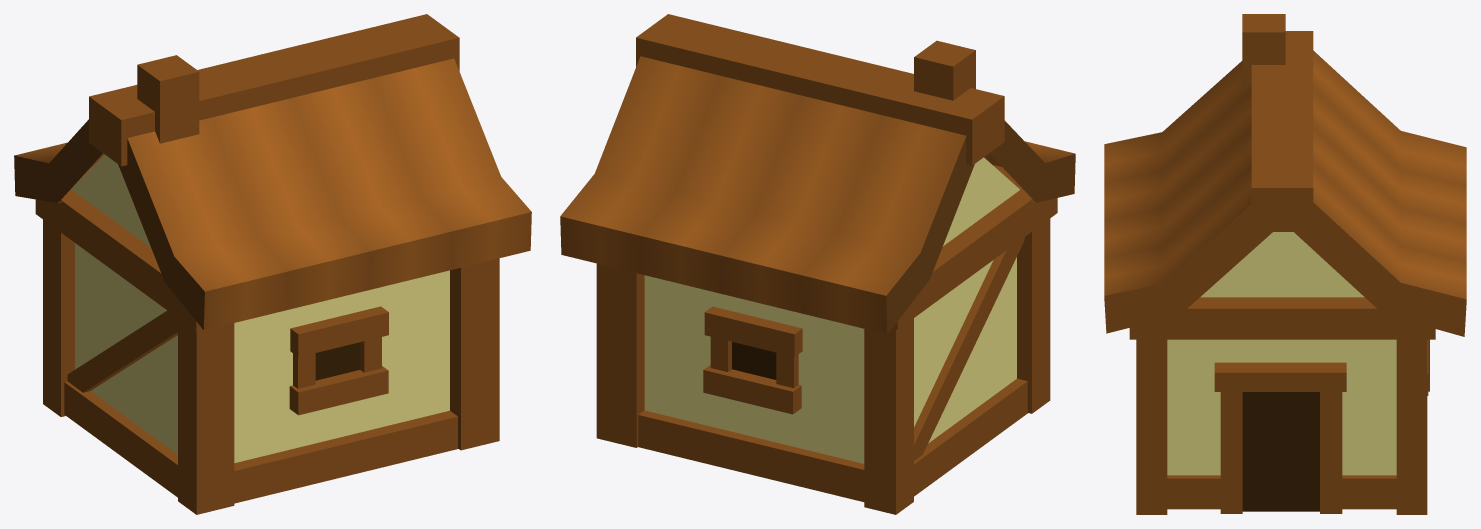
Rendered from house_.fbx.
The picture shows the model from 3 angles, left to right: view 1: azimuth 30°, elevation 25°; view 2: azimuth 150°, elevation 25°; view 3: azimuth 270°, elevation 25°; orthographic projection. The views are drawn at different scales.
Visible parts, largest first — view 1: polySurface125; view 2: polySurface125; view 3: polySurface125.
Boxes of the visible parts, left/top/right/bottom form: polySurface125: left=14, top=14, right=531, bottom=514; polySurface125: left=560, top=14, right=1075, bottom=514; polySurface125: left=1104, top=14, right=1466, bottom=514.
Size of the model in its own units: 83.54 by 92.18 by 81.58.
1 material, 1 textured.
